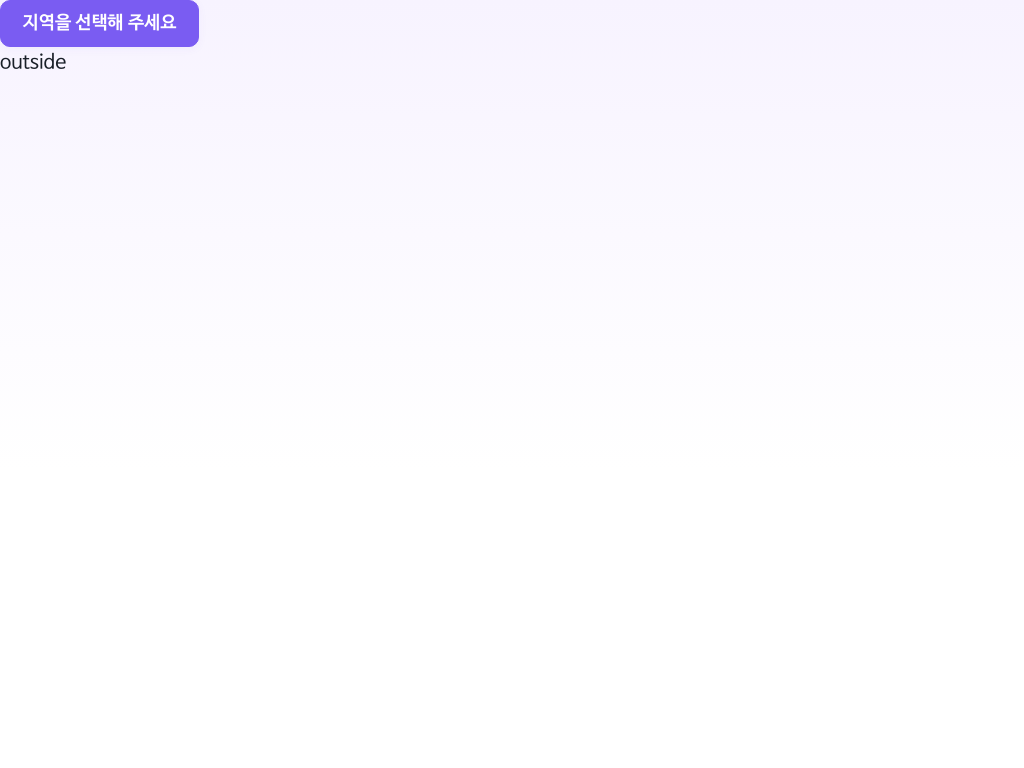
Test: a first visitor (R1-2) › the button opens the box under the card, no window; no [일하는 곳도 더하기] beside it (user 2026-10-19, 2026-10-20)
The image size is (1024, 768).
What coordinates should you click on to do the following:
click the button "지역을 선택해 주세요"
I would click on:
 (100, 23)
Its box is [0,0,199,47].
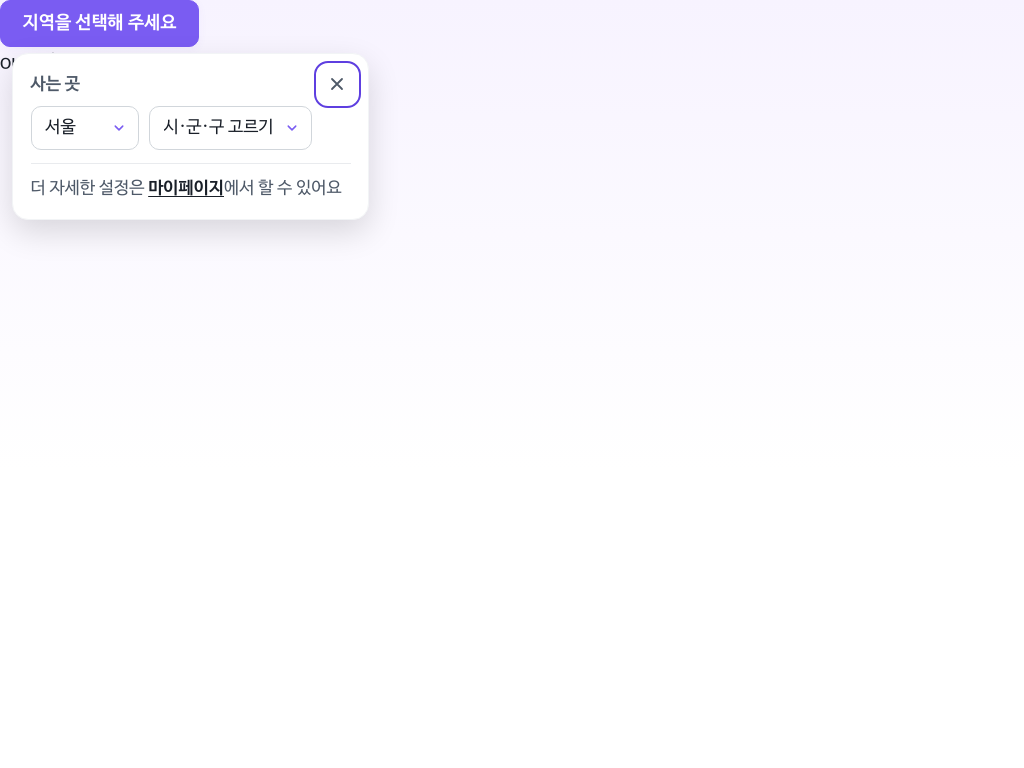
Expected: the element "사는 곳" is shown, [31,71,351,163]
Expected: the dialog named "찾을 도서관" is shown, [12,53,369,220]
